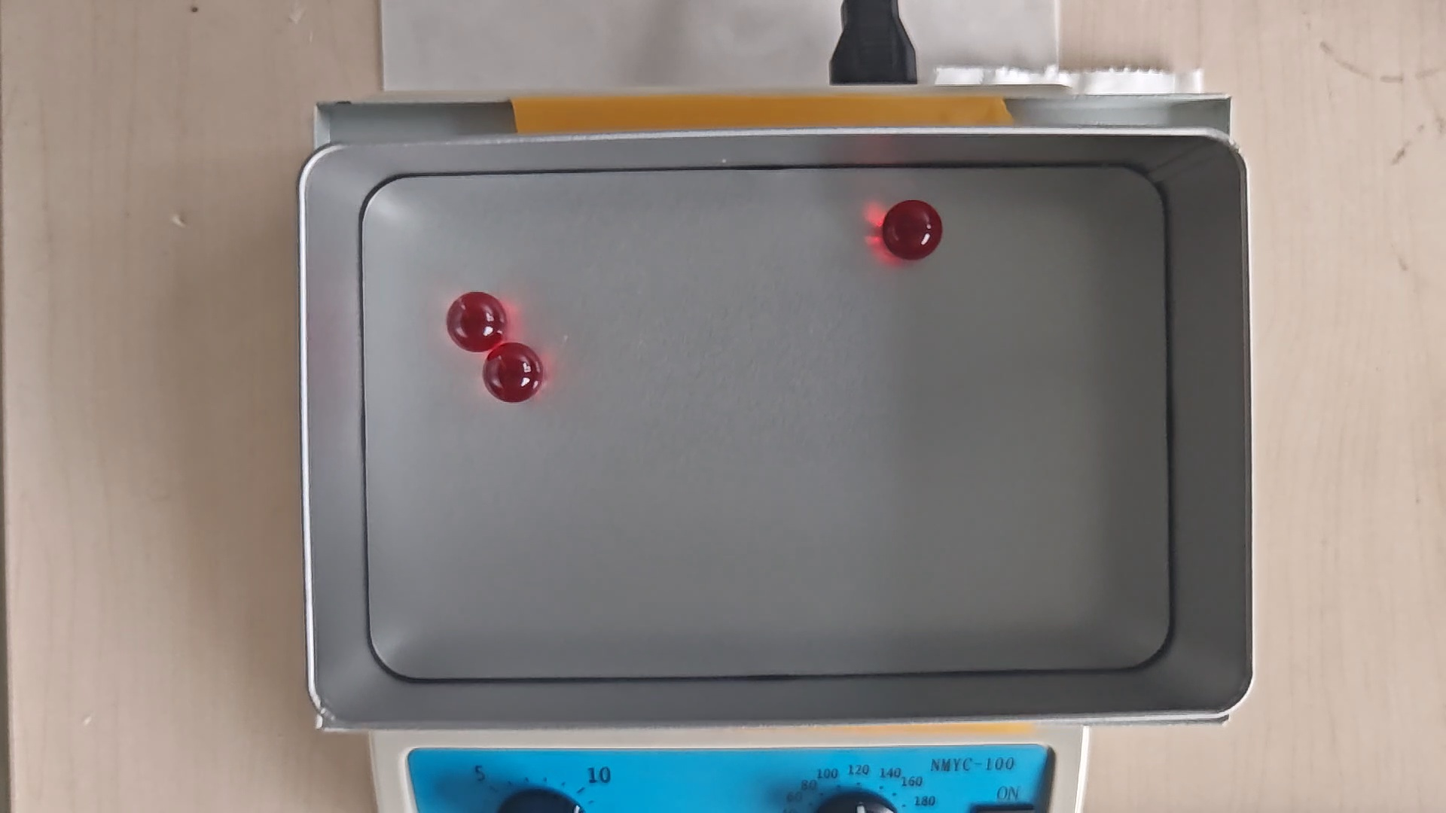ball: (883, 199, 944, 261), (448, 292, 508, 352), (482, 347, 545, 404)
container: (361, 172, 1170, 670)
